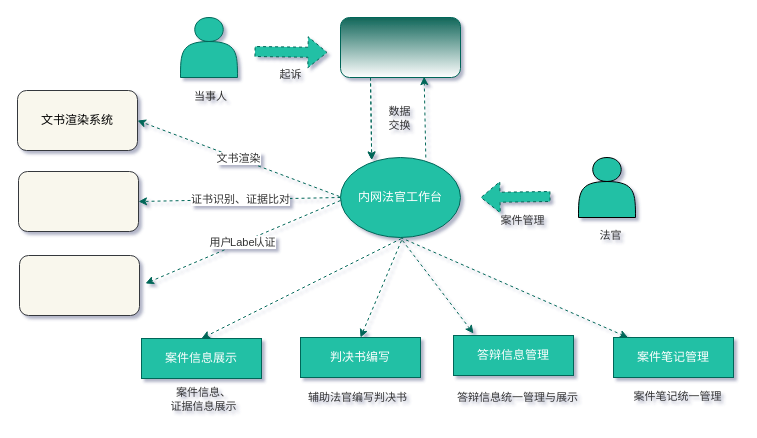
Image size: 757x438. Some labels were removed from this diagram. The box of each missing label's shape, as (x1, y1, x2, y2) in pixels:
外网数据同步系统: (340, 16, 460, 78)
算法辅助系统: (18, 170, 138, 232)
统一账号系统: (18, 254, 140, 316)
